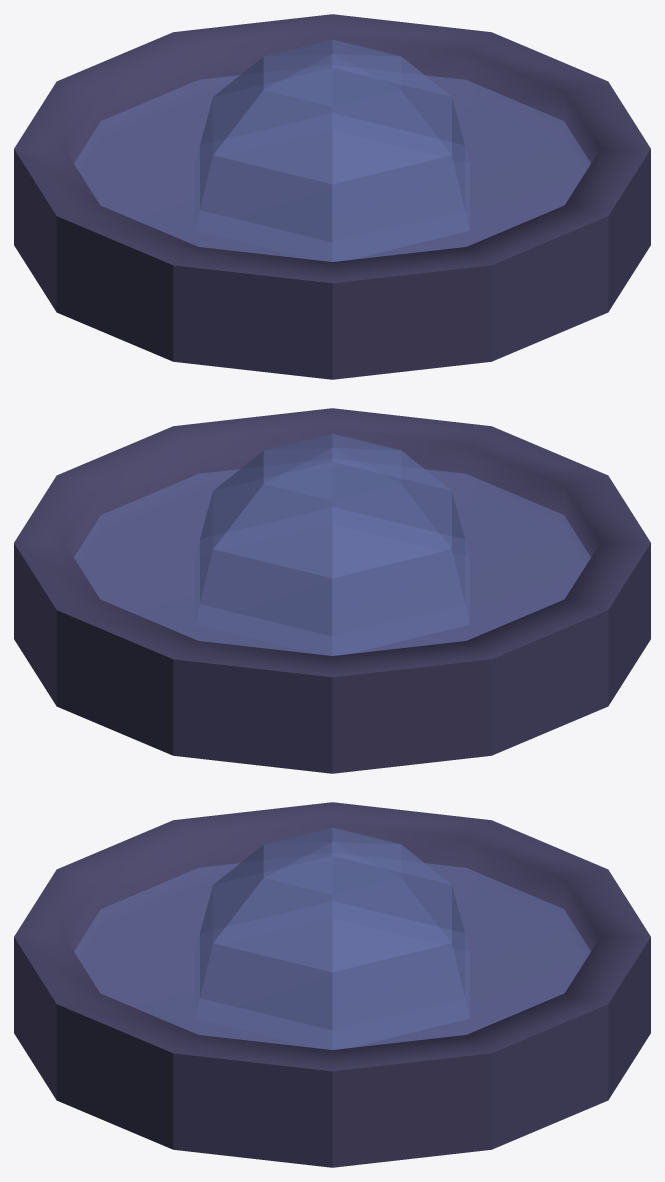
File: Fountain.fbx
3 views of the same model, one above another, from view 1: azimuth 30°, elevation 25°; view 2: azimuth 150°, elevation 25°; view 3: azimuth 270°, elevation 25° (orthographic).
Visible parts, largest first — view 1: base, pool, bubble; view 2: base, pool, bubble; view 3: base, pool, bubble.
Part boxes in pixels (<box>): base: <box>14,14,650,379</box>; pool: <box>74,75,590,261</box>; bubble: <box>195,39,469,261</box>; base: <box>14,408,650,773</box>; pool: <box>74,469,590,655</box>; bubble: <box>195,433,469,655</box>; base: <box>14,802,650,1167</box>; pool: <box>74,863,590,1049</box>; bubble: <box>195,827,469,1049</box>.
Bounding box in the file's own units: 12 × 6 × 12.
